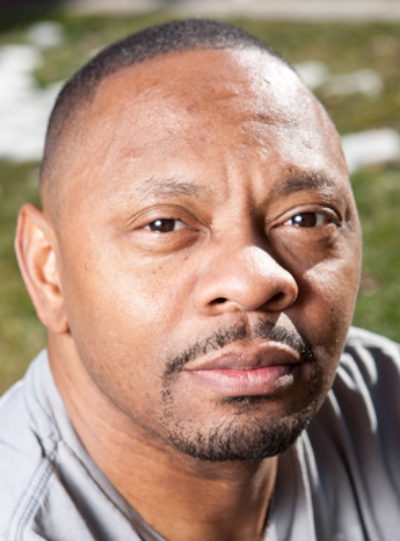bad: (63, 99, 384, 420)
